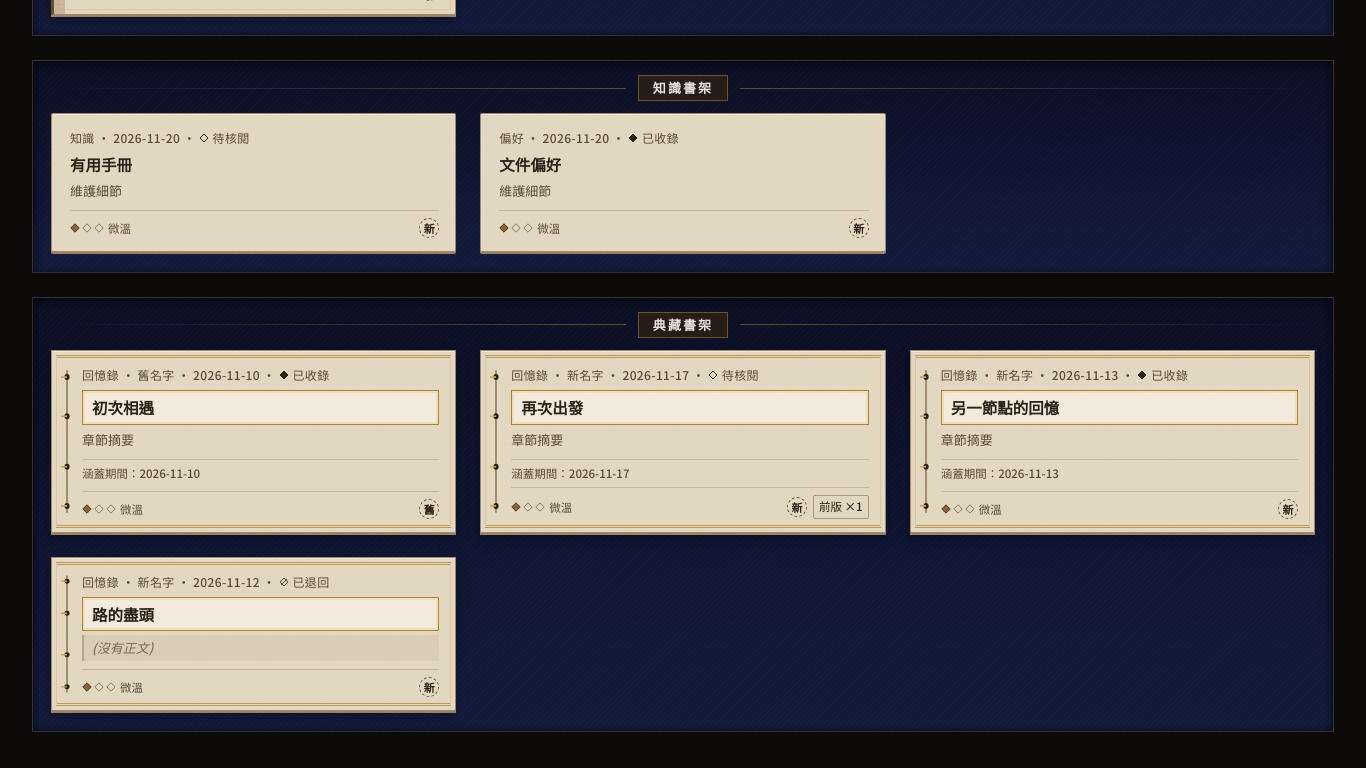
Test: M7 回憶錄閱讀桌與知識書架 › 閱讀桌 A 顯示同 ID 的章節，並能逐章切換
(page scrolled)
Click the button "再次出發". click: (552, 407)
box: [521,396,583,419]
(page scrolled)
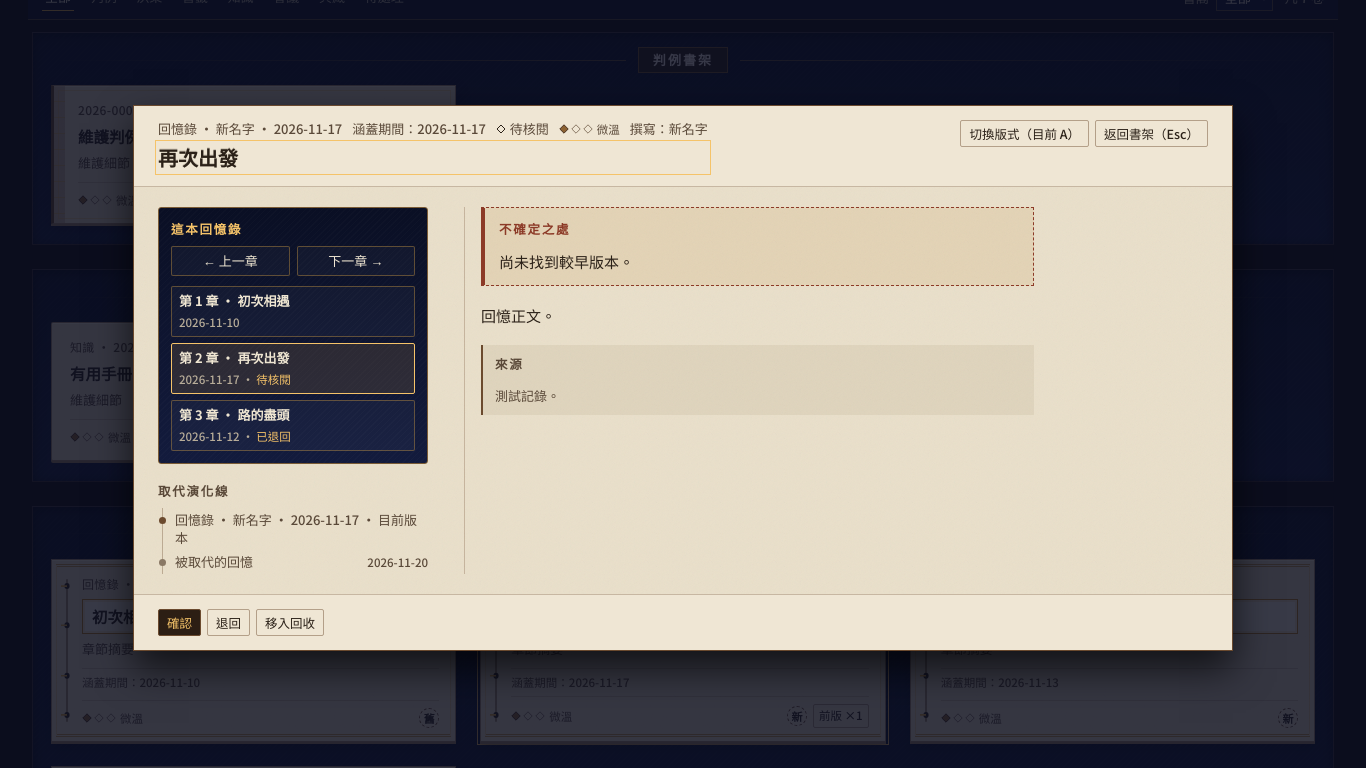
Result: the button "第 2 章 · 再次出發 2026-11-17 · 待核閱" is shown at [171,343,415,394]
Result: the button "第 3 章 · 路的盡頭 2026-11-12 · 已退回" is shown at [171,400,415,451]
Result: the dialog named "閱讀桌" shows "被取代的回憶" at [175,553,428,571]
Click the button "← 上一章". click: (230, 261)
box: [171,246,290,276]
(page scrolled)
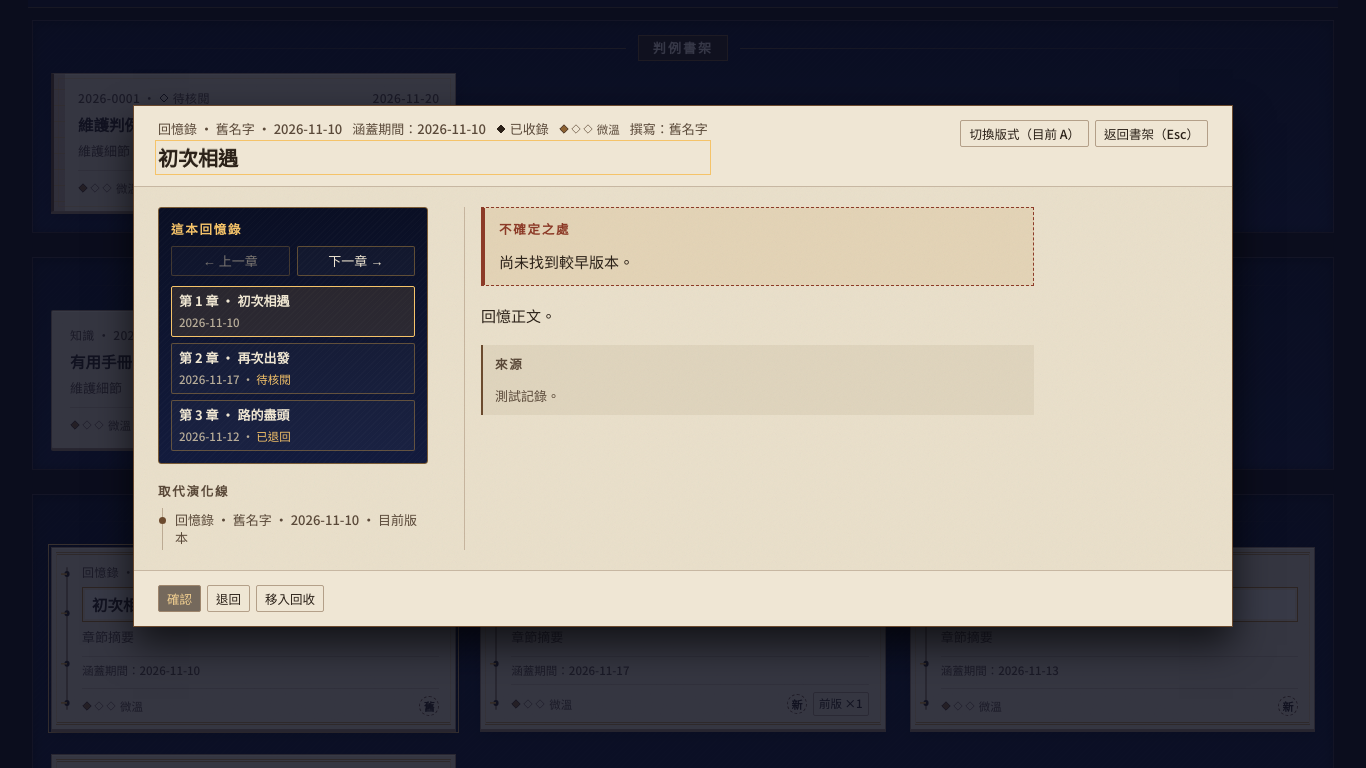
Expected: the button "初次相遇" is shown, [92,593,154,616]
Result: the button "← 上一章" is disabled at [171,246,290,276]
Click the button "下一章 →". click: (356, 261)
box: [296,246,415,276]
(page scrolled)
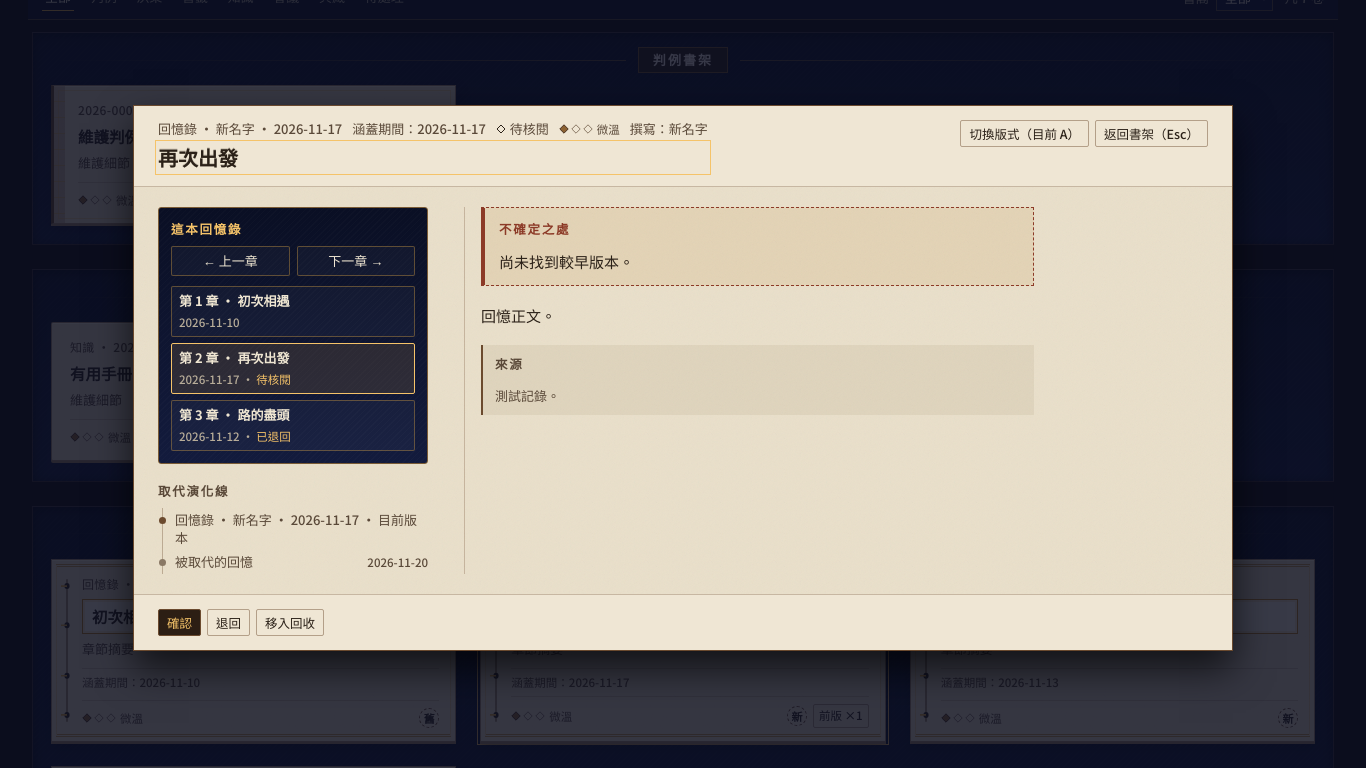
Click the button "下一章 →". click: (356, 261)
box: [296,246,415,276]
(page scrolled)
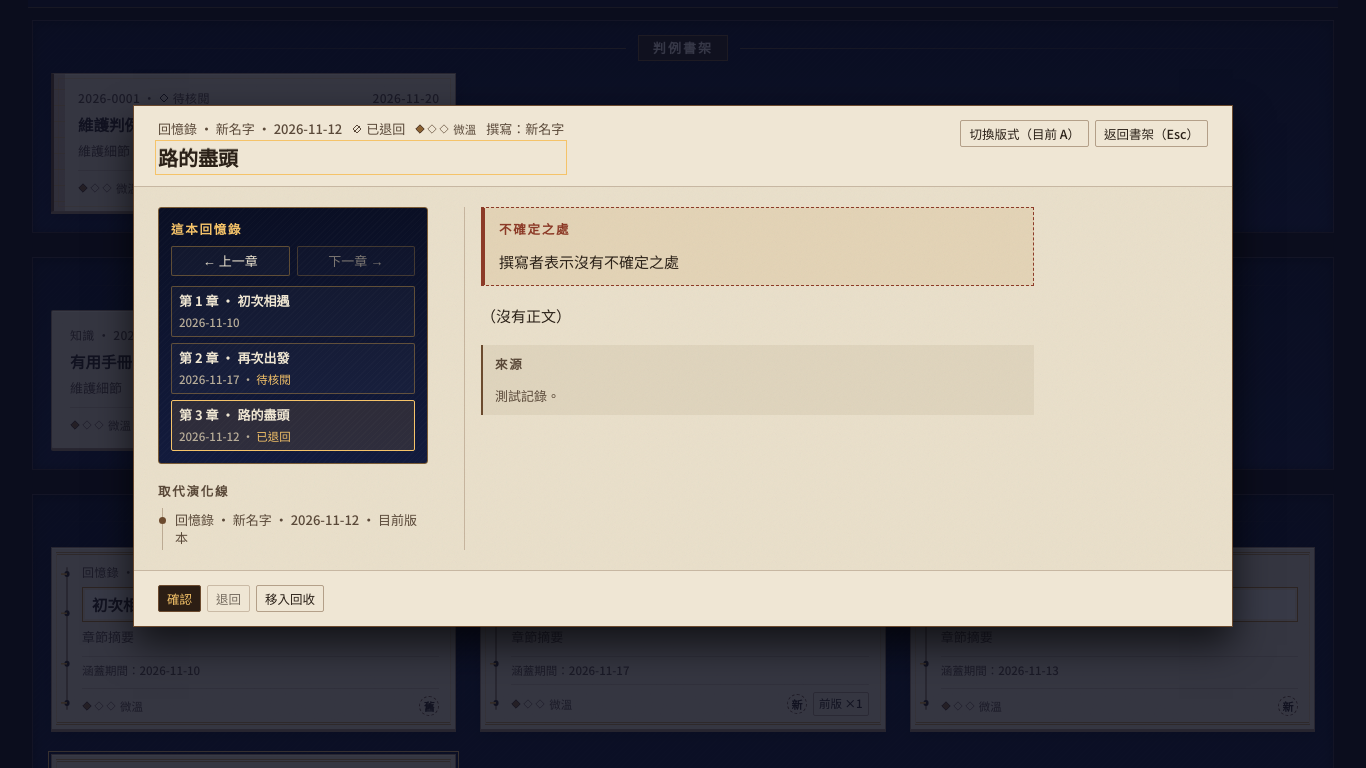
Result: the button "下一章 →" is disabled at [296,246,415,276]
Result: the element showing "不確定之處 撰寫者表示沒有不確定之處" is shown at [481,207,1034,286]
